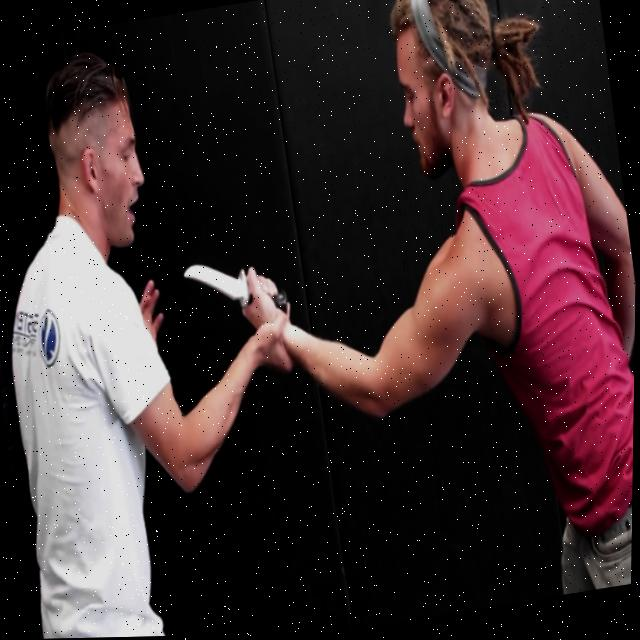knife: (175, 241, 296, 338)
